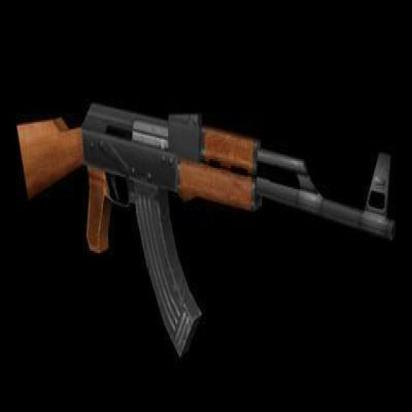Gun: (13, 97, 402, 359)
